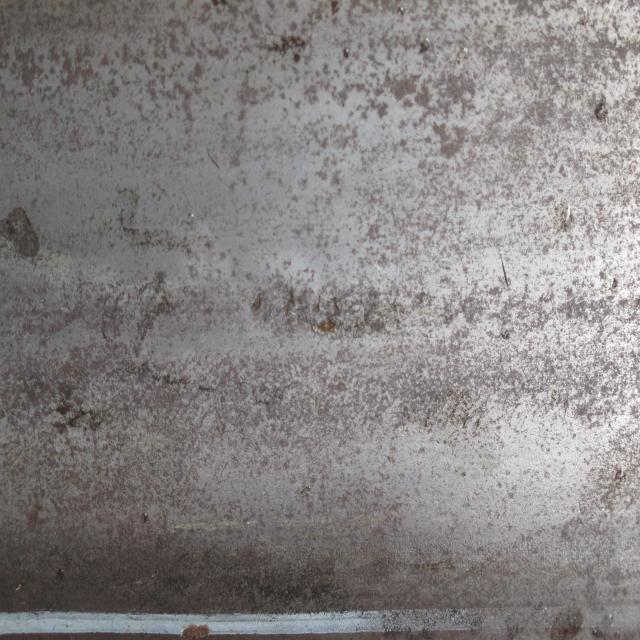Contact_Fatigue_Cracks: (251, 284, 387, 336), (135, 360, 209, 402), (53, 402, 109, 437)
